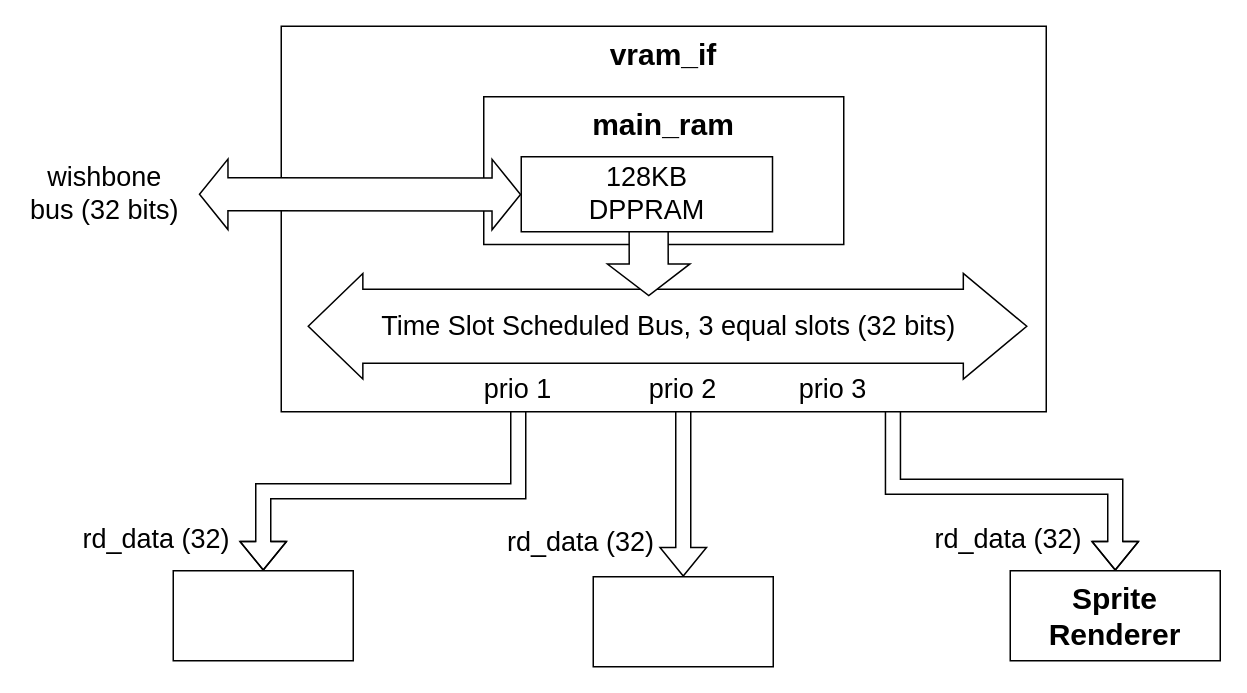
The diagram is 1247 pixels wide and 693 high, and some of its shapes have lost their labels. Each missing label, with the centre of its shape:
Layer 0 Renderer: pixel 262 615
Layer 1 Renderer: pixel 682 621
